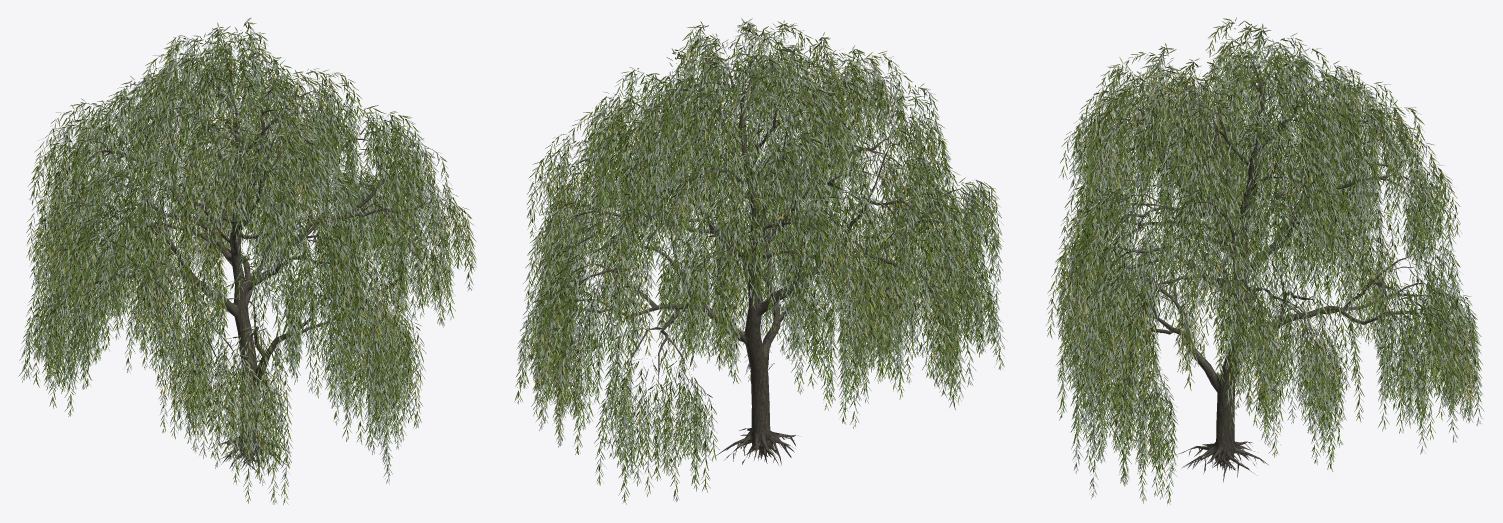
The model's file is salix-babylonica-ld-s19-proof.glb.
The picture shows the model from 3 angles, left to right: view 1: azimuth 30°, elevation 25°; view 2: azimuth 150°, elevation 25°; view 3: azimuth 270°, elevation 25°; orthographic projection. The views are drawn at different scales.
Visible parts, largest first — view 1: ForestPlantCatalog_salix-babylonica-ld-s19; view 2: ForestPlantCatalog_salix-babylonica-ld-s19; view 3: ForestPlantCatalog_salix-babylonica-ld-s19.
Boxes of the visible parts, bbox=[...] form: ForestPlantCatalog_salix-babylonica-ld-s19: bbox=[18, 17, 476, 504]; ForestPlantCatalog_salix-babylonica-ld-s19: bbox=[514, 18, 1007, 504]; ForestPlantCatalog_salix-babylonica-ld-s19: bbox=[1046, 17, 1484, 504].
Bounding box in the file's own units: 12.84 × 11.94 × 10.88.
11 materials, 11 textured.
